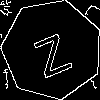Z: (27, 24, 74, 79)
